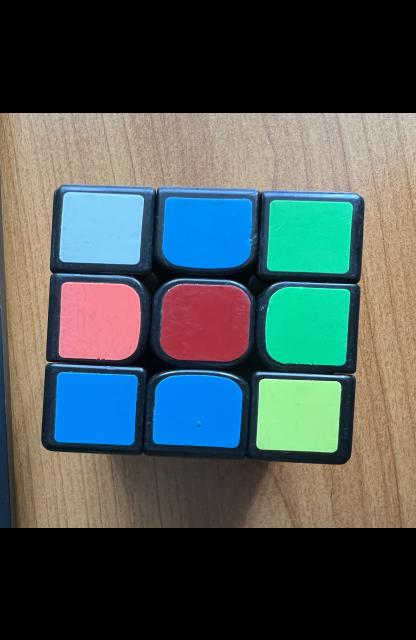Blue: (153, 374, 243, 447), (162, 196, 252, 268), (54, 371, 138, 445)
Green: (266, 285, 350, 364), (267, 199, 353, 272)
Orange: (58, 281, 140, 359)
Red: (160, 283, 250, 361)
White: (59, 191, 144, 264)
Yellow: (256, 377, 342, 451)
